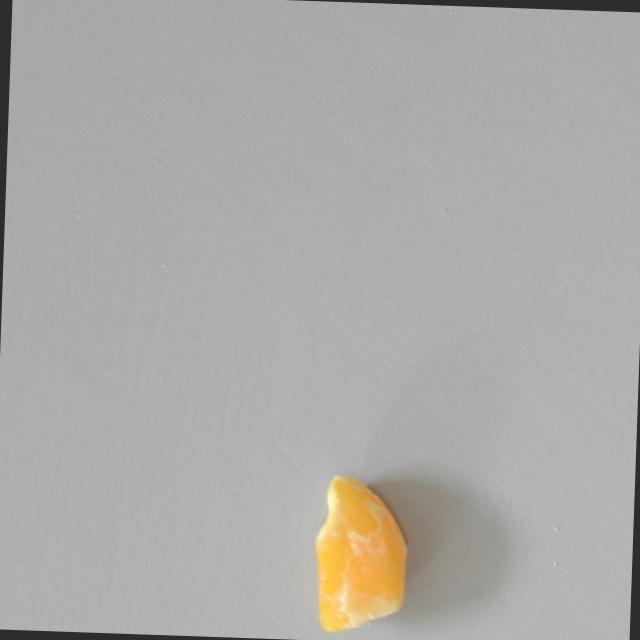pelicula: (310, 471, 411, 637)
